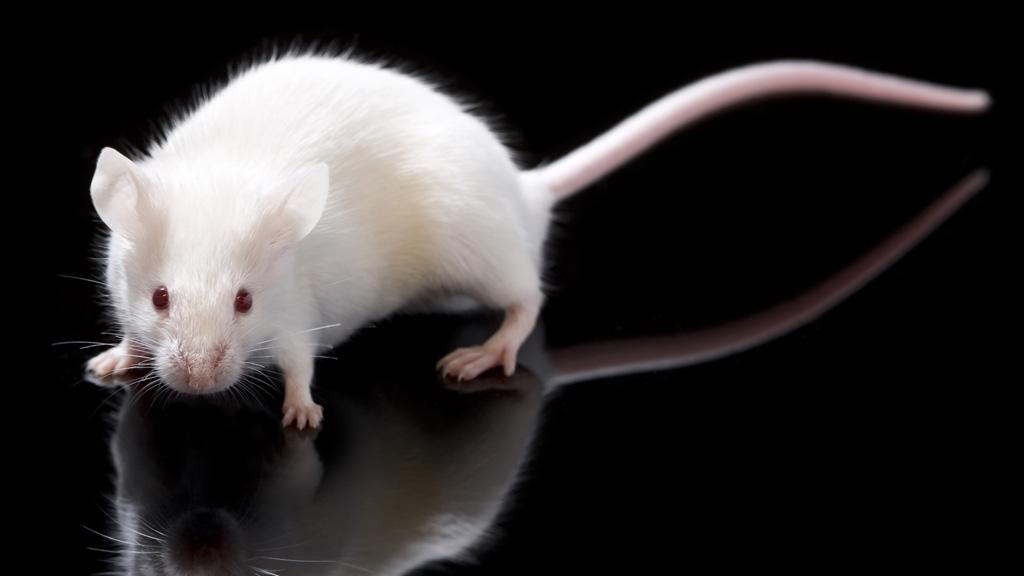rat: (88, 54, 990, 429)
